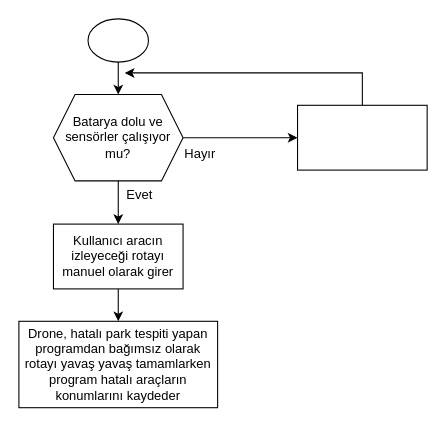
This 446x427 diagram has some shape labels left out. Each missing label, with the centre of its shape:
"Başla" belongs at [117,40].
"Şarj doldurulur veya sensörler kontrol edilir." belongs at [361,137].
